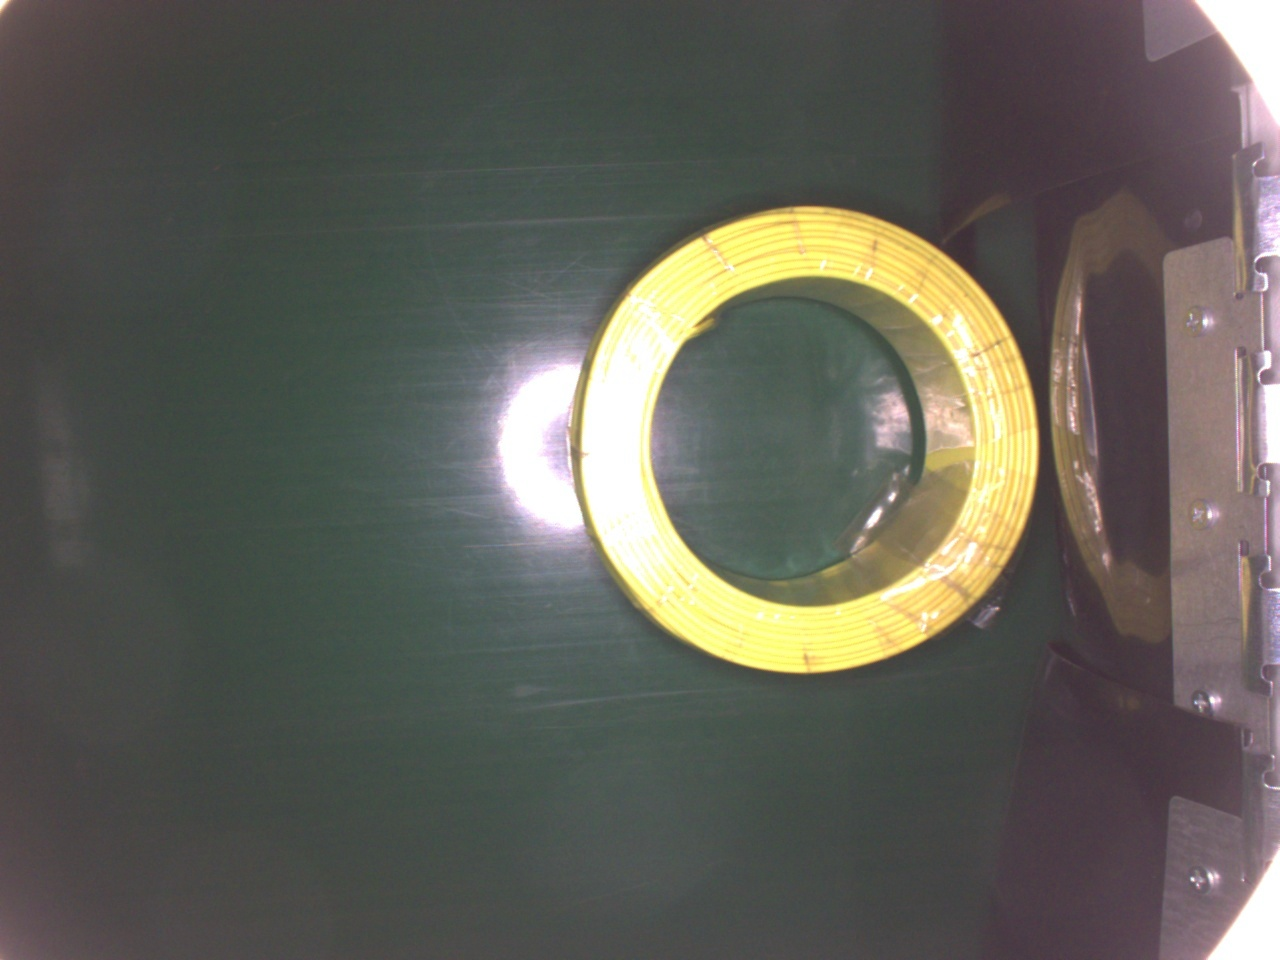yellow: (568, 200, 1041, 675)
